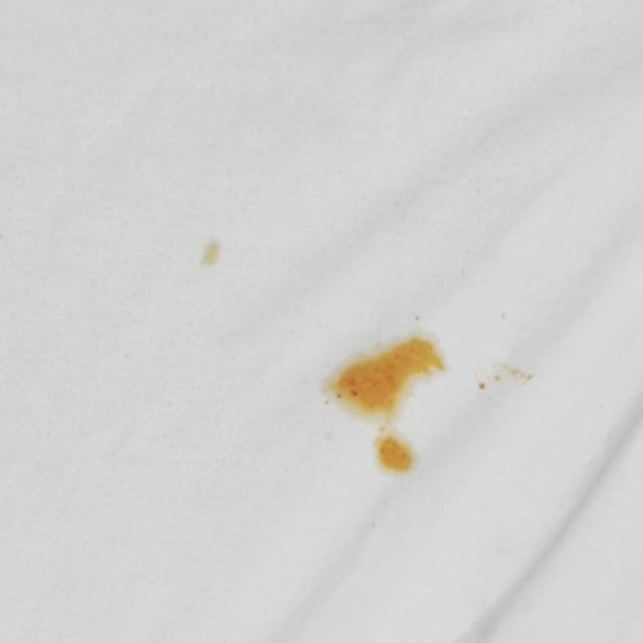kimchi: (316, 303, 455, 492), (468, 351, 545, 410), (189, 239, 229, 271), (493, 308, 512, 326)
